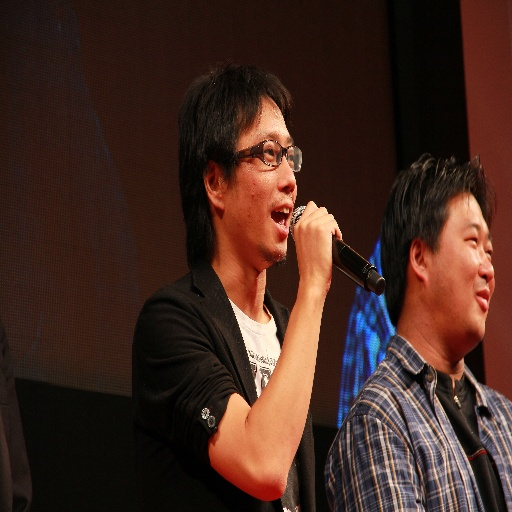hand: (292, 198, 344, 302)
